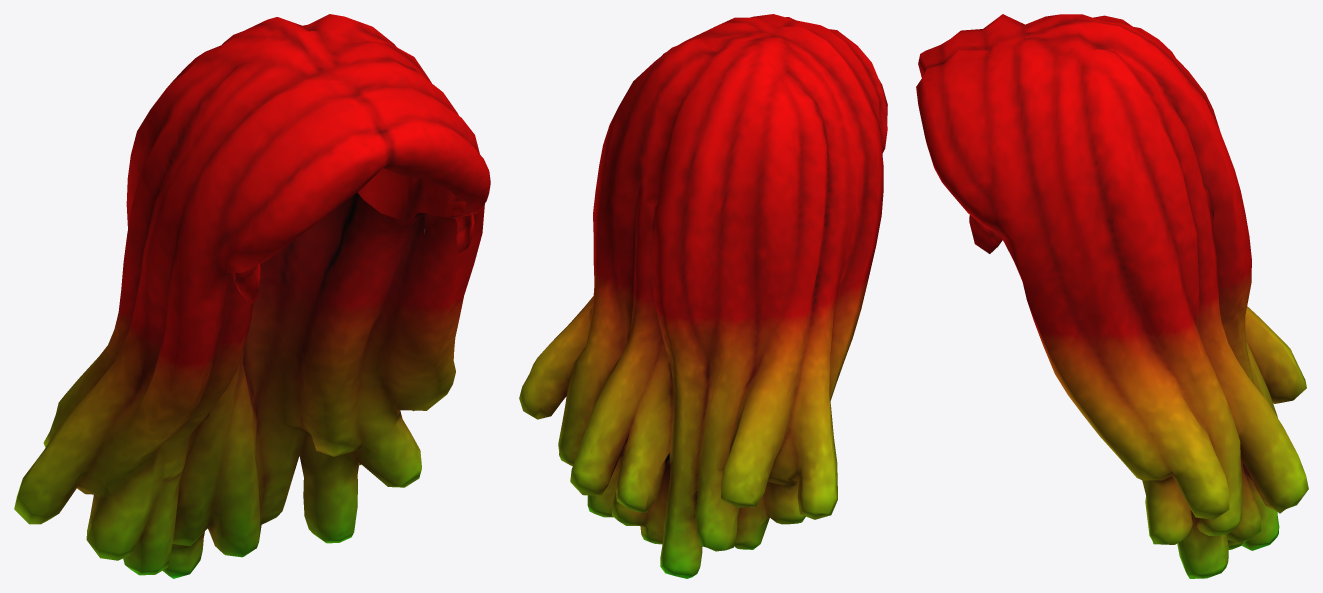
File: BSMC_Outfit_HairBack_LongDreads.obj
The picture shows the model from 3 angles, left to right: view 1: azimuth 30°, elevation 25°; view 2: azimuth 150°, elevation 25°; view 3: azimuth 270°, elevation 25°; orthographic projection. The views are drawn at different scales.
Parts seen in each view (by area): view 1: BSMC_Outfit_HairBack_LongDreads_0; view 2: BSMC_Outfit_HairBack_LongDreads_0; view 3: BSMC_Outfit_HairBack_LongDreads_0.
Boxes of the visible parts, <box> form: BSMC_Outfit_HairBack_LongDreads_0: <box>14,14,490,578</box>; BSMC_Outfit_HairBack_LongDreads_0: <box>519,14,887,578</box>; BSMC_Outfit_HairBack_LongDreads_0: <box>916,14,1308,578</box>.
Bounding box in the file's own units: 0.3257 × 0.4637 × 0.3102.
Materials: 1 (1 with a texture image).
